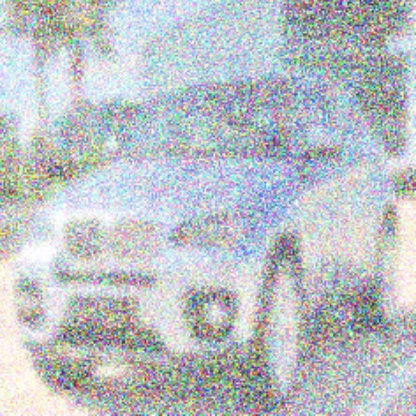Vehicle: (17, 75, 400, 409)
